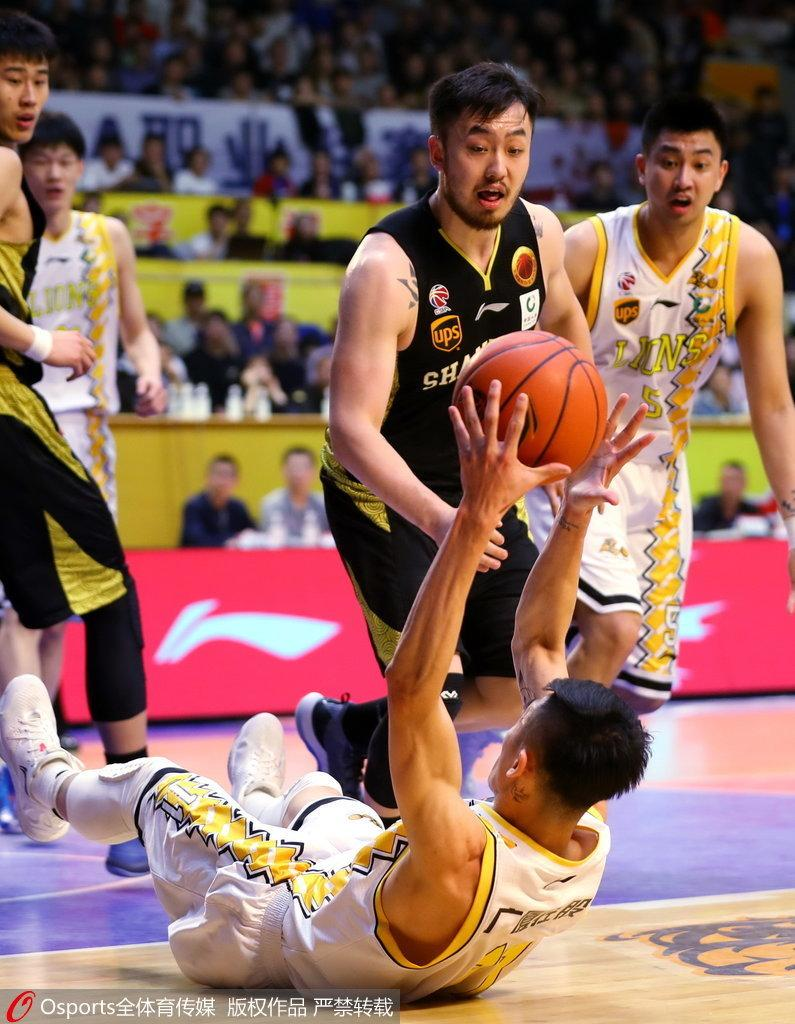bending: (300, 55, 587, 766), (543, 112, 795, 730)
down: (1, 371, 657, 1024)
up: (1, 23, 139, 755)
